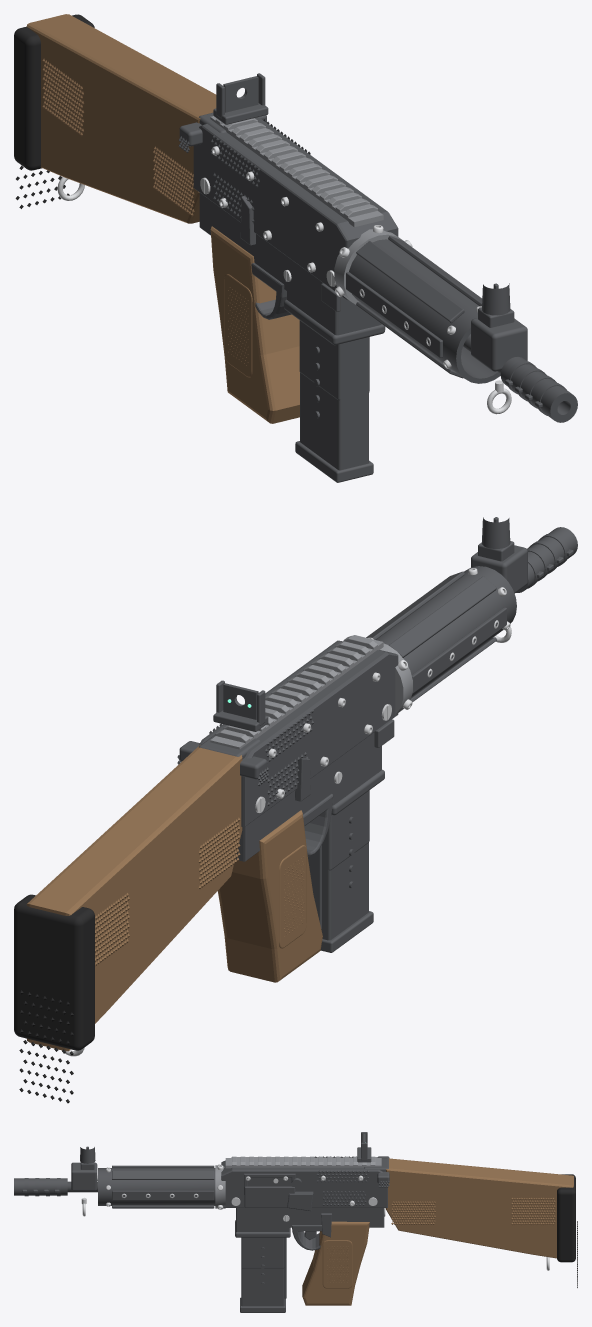
Rendered from classic-smg.glb.
The picture shows the model from 3 angles, top to bottom: view 1: azimuth 30°, elevation 25°; view 2: azimuth 150°, elevation 25°; view 3: azimuth 270°, elevation 25°; orthographic projection. The views are drawn at different scales.
Visible parts, largest first — view 1: classic-smg, magazine/gunmetal, charge; view 2: classic-smg, magazine/gunmetal, charge; view 3: classic-smg, magazine/gunmetal, charge.
Boxes of the visible parts, bbox=[...] form: classic-smg: bbox=[14, 14, 577, 423]; magazine/gunmetal: bbox=[295, 320, 373, 482]; charge: bbox=[178, 112, 266, 152]; classic-smg: bbox=[14, 517, 577, 1103]; magazine/gunmetal: bbox=[308, 790, 373, 952]; charge: bbox=[177, 734, 268, 785]; classic-smg: bbox=[14, 1132, 577, 1305]; magazine/gunmetal: bbox=[240, 1237, 286, 1312]; charge: bbox=[364, 1156, 389, 1187].
Bounding box in the file's own units: 0.0592 × 0.2209 × 0.6503.
